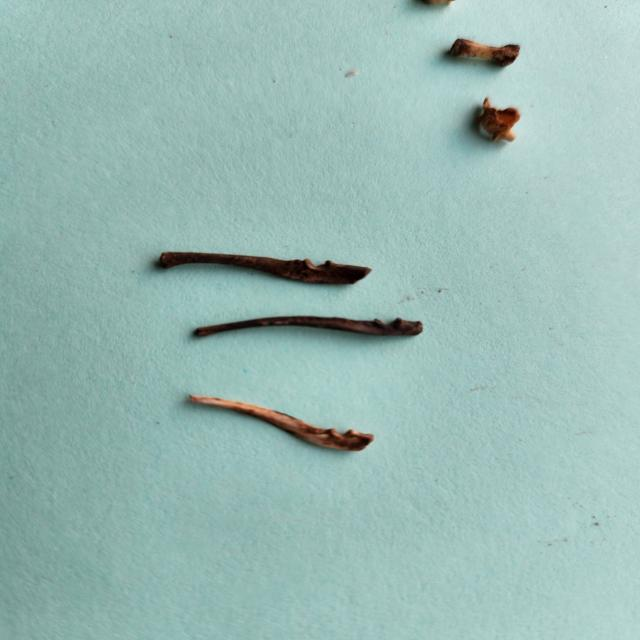fossil: (178, 294, 450, 355), (180, 383, 389, 459), (149, 241, 385, 291), (468, 91, 538, 151), (441, 30, 530, 75)
